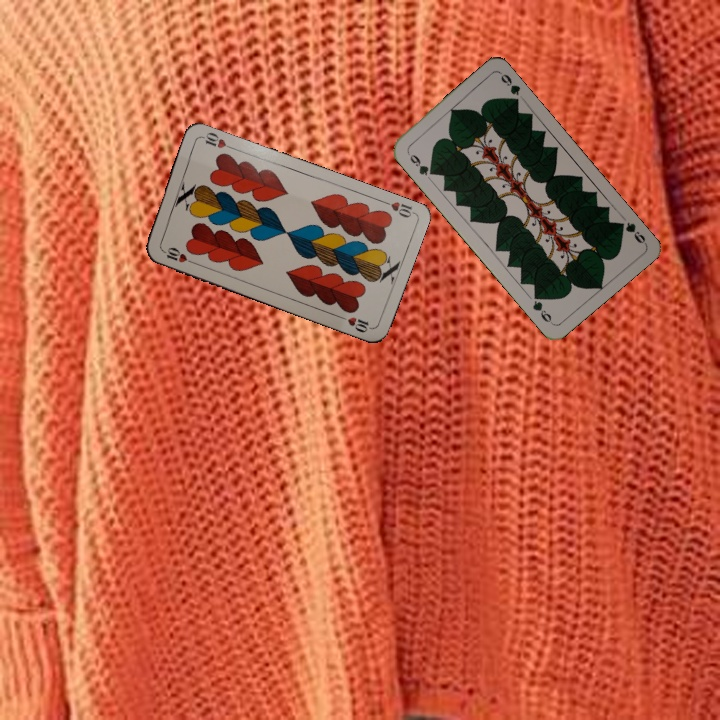G9: (403, 148, 437, 178), (613, 218, 648, 247)
H10: (377, 196, 416, 220), (157, 243, 196, 266)
